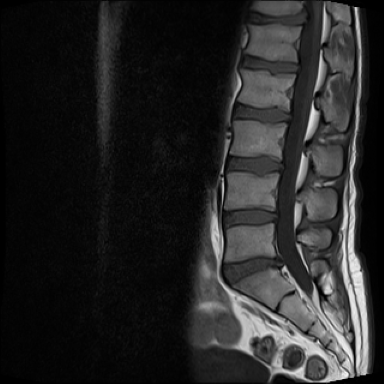Lumbar Disc Bulge (LDB): (217, 243, 286, 292), (218, 199, 282, 232)
Normal IVD: (224, 98, 294, 128), (233, 51, 304, 80), (216, 151, 285, 178)
Spinal Stenosis (SS): (264, 245, 295, 278), (291, 1, 317, 31)
Thoracic Disc Bulge (TDB): (237, 5, 313, 30)
